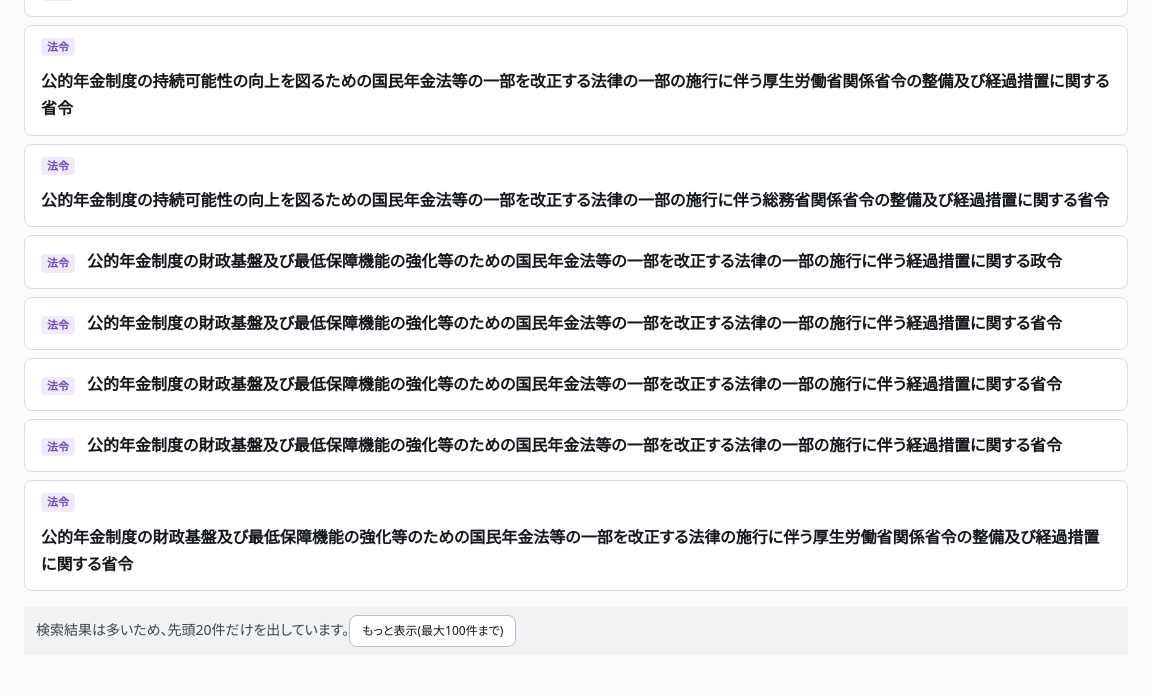
Scenario: SearchPage(グラフ主体。裁定B109) › **核心**: truncated=trueのとき「もっと表示」が出て、押すとlimit=100で再取得し、上限に達したら消える
(page scrolled)
Click the button "もっと表示(最大100件まで)". click: coordinates (433, 631)
box: [349, 615, 516, 647]
(page scrolled)
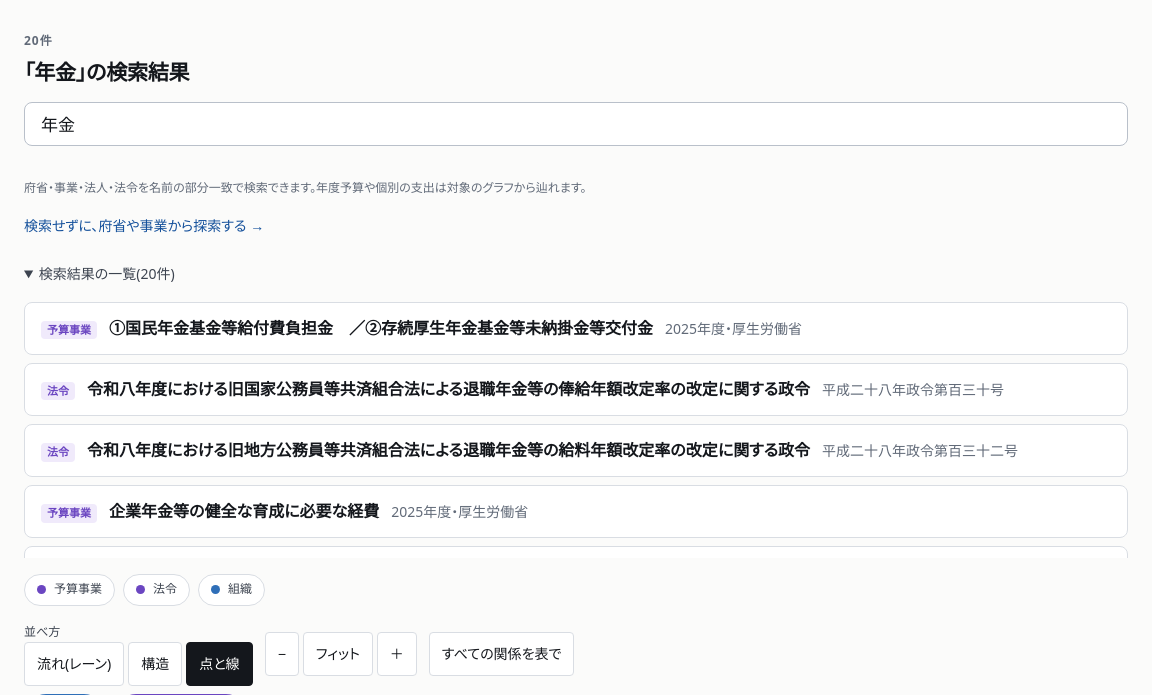
Expected: the button "もっと表示" is gone
